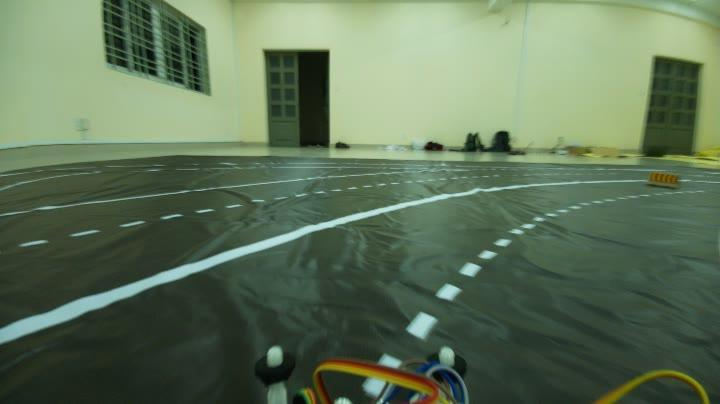roadblock: (642, 163, 680, 190)
